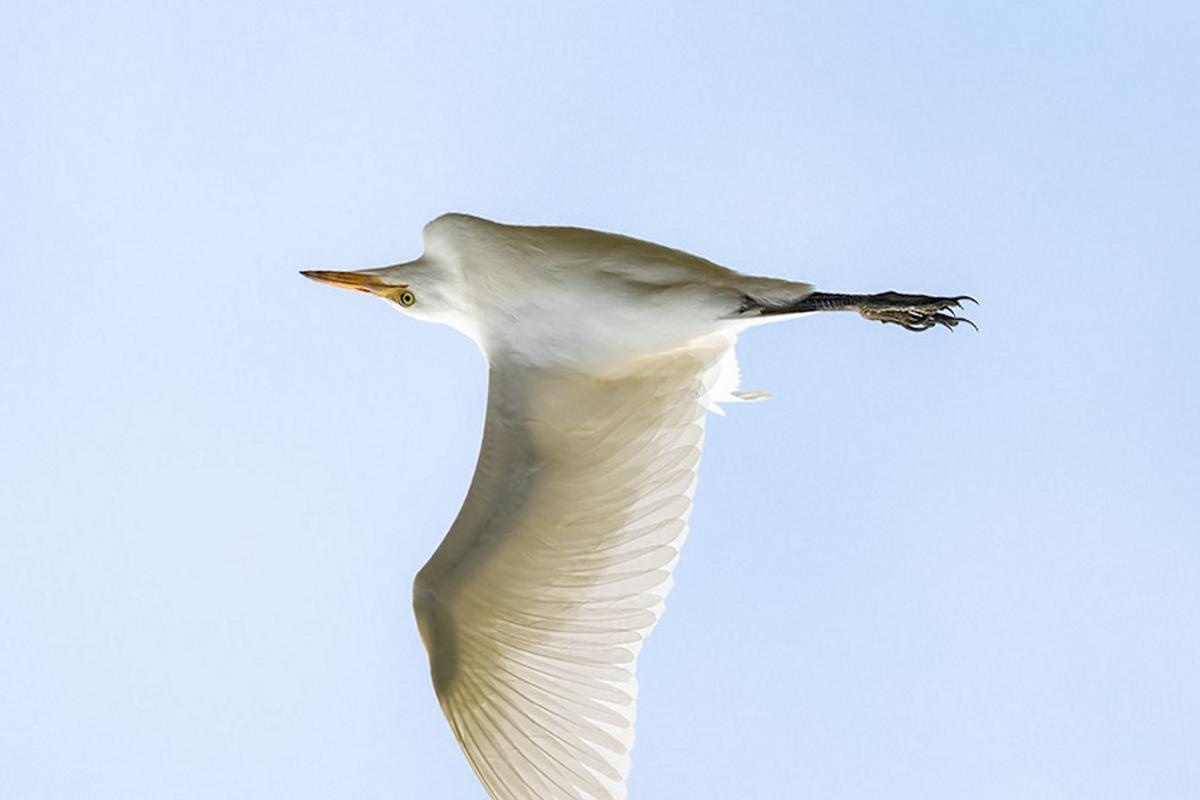egret: (300, 204, 971, 800)
